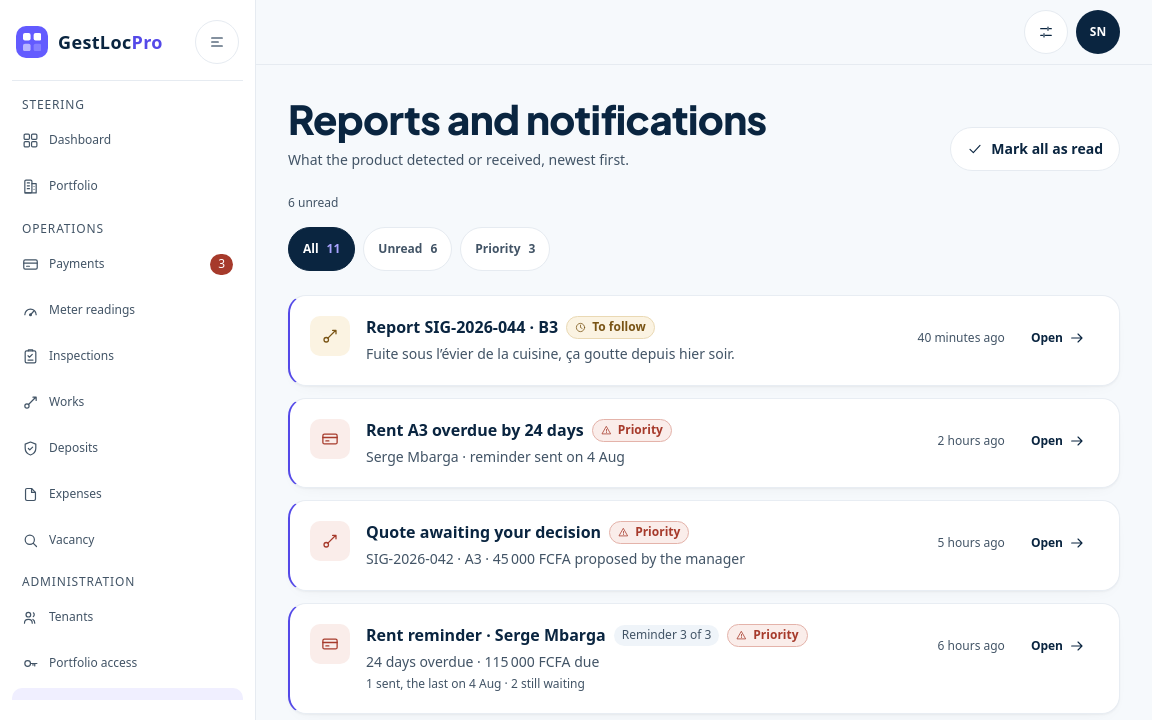
Test: messages d’alerte › éteint la pastille de navigation quand tout est lu
Step 1. Click the button "Mark all as read" → (1035, 149), box 950,127 -> 1120,171
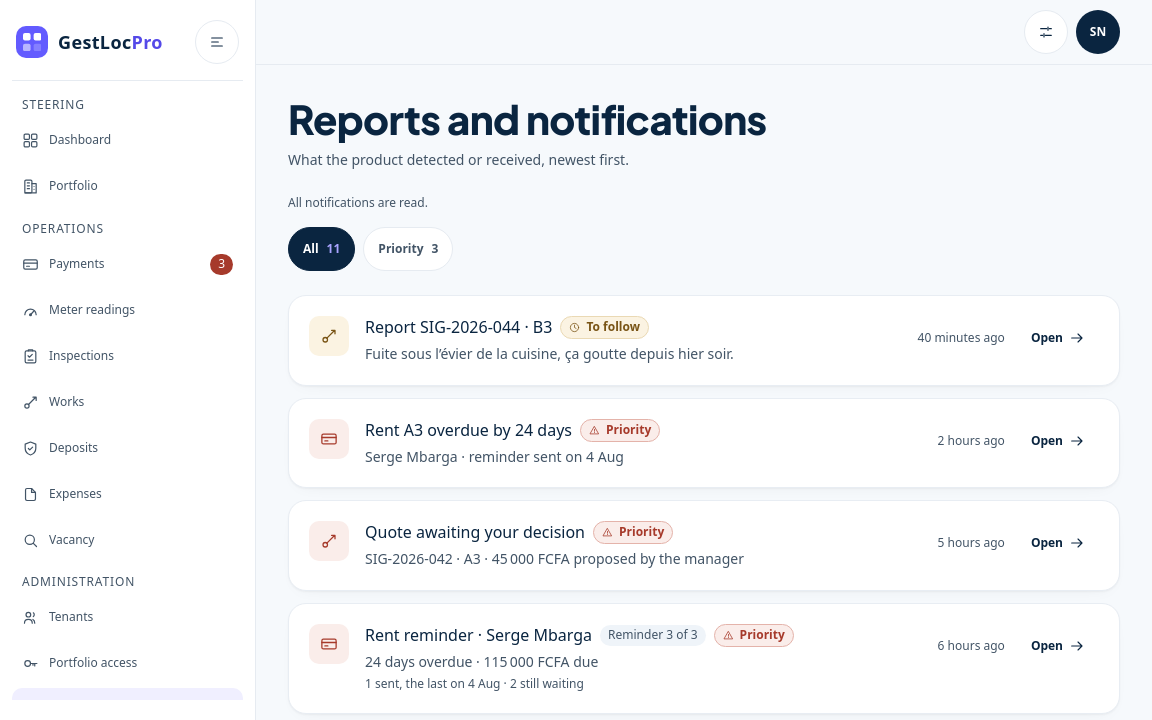
Expected: the text "All notifications are read." is shown, 288,194 -> 428,211
